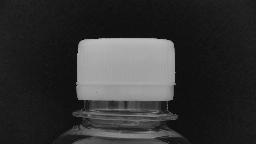Loose Cap: (66, 76, 184, 124)
